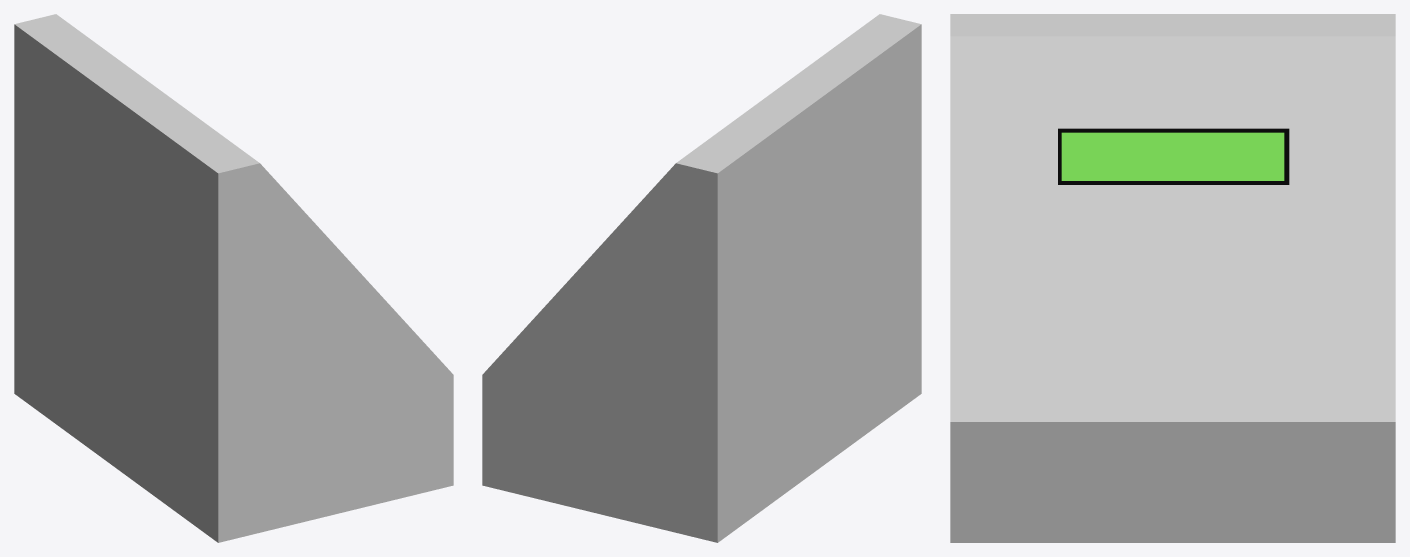
Rendered from KeycardReader.fbx.
3 renders of one model, left to right at view 1: azimuth 30°, elevation 25°; view 2: azimuth 150°, elevation 25°; view 3: azimuth 270°, elevation 25°, orthographic. The views are drawn at different scales.
Parts seen in each view (by area): view 1: Cube; view 2: Cube; view 3: Cube.
Part boxes in pixels (x1,y1,x2,y2): Cube: (14, 14, 453, 542); Cube: (482, 14, 921, 542); Cube: (950, 14, 1395, 542).
Bounding box in the file's own units: 400 × 600 × 600.
